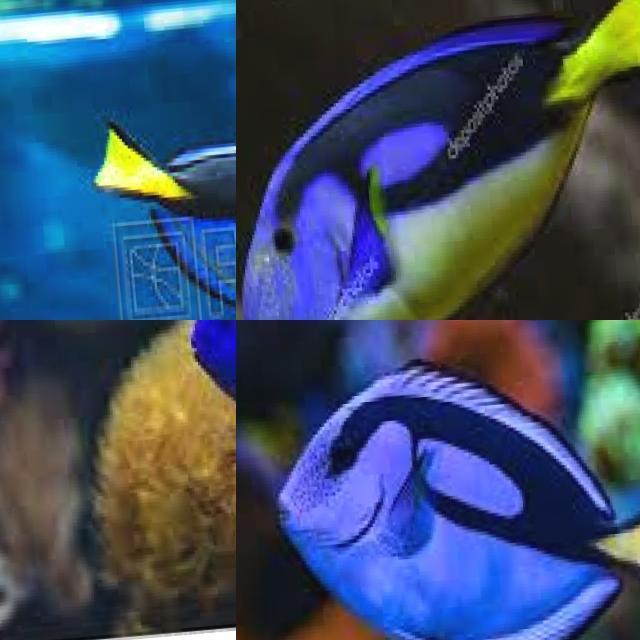BlueTang: (236, 0, 640, 320), (266, 367, 640, 640), (112, 122, 236, 297)
